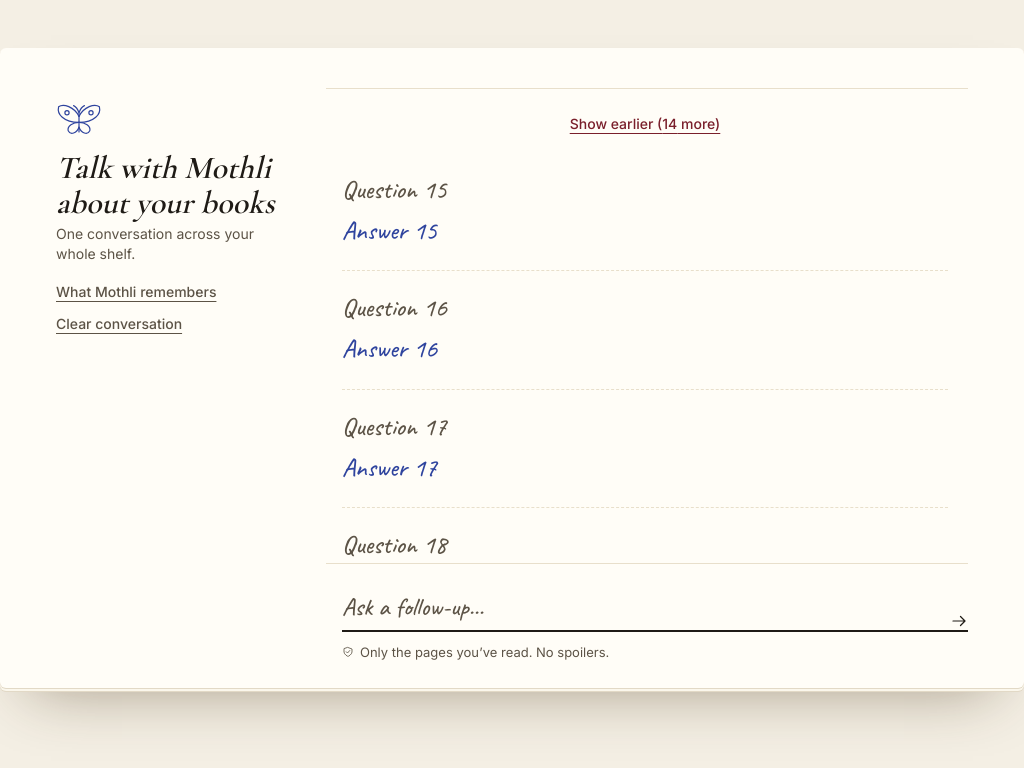
it: HomeChat › a long conversation shows the latest exchanges and lets the reader reach earlier ones
Check: the list item "Question 15 Answer 15" is shown, box [341,172,446,247]
Click the button "Show earlier (14 more)": (645, 123) [566,101,724,145]
(page scrolled)
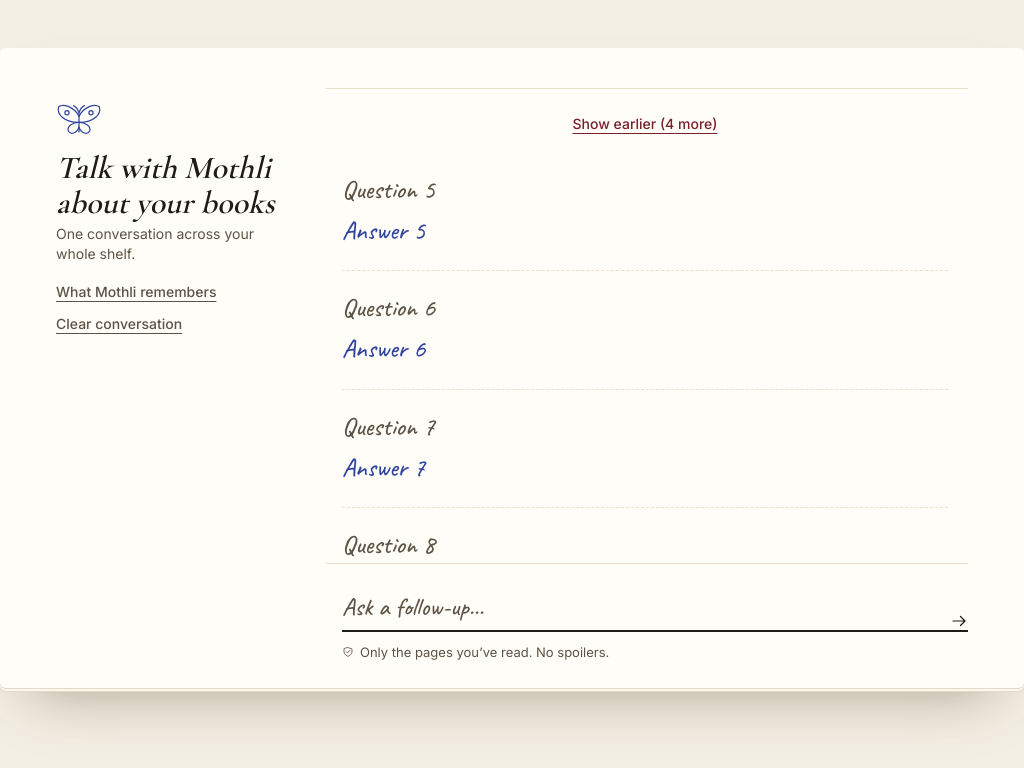
Click the button "Show earlier (4 more)": (645, 123) [568,101,721,145]
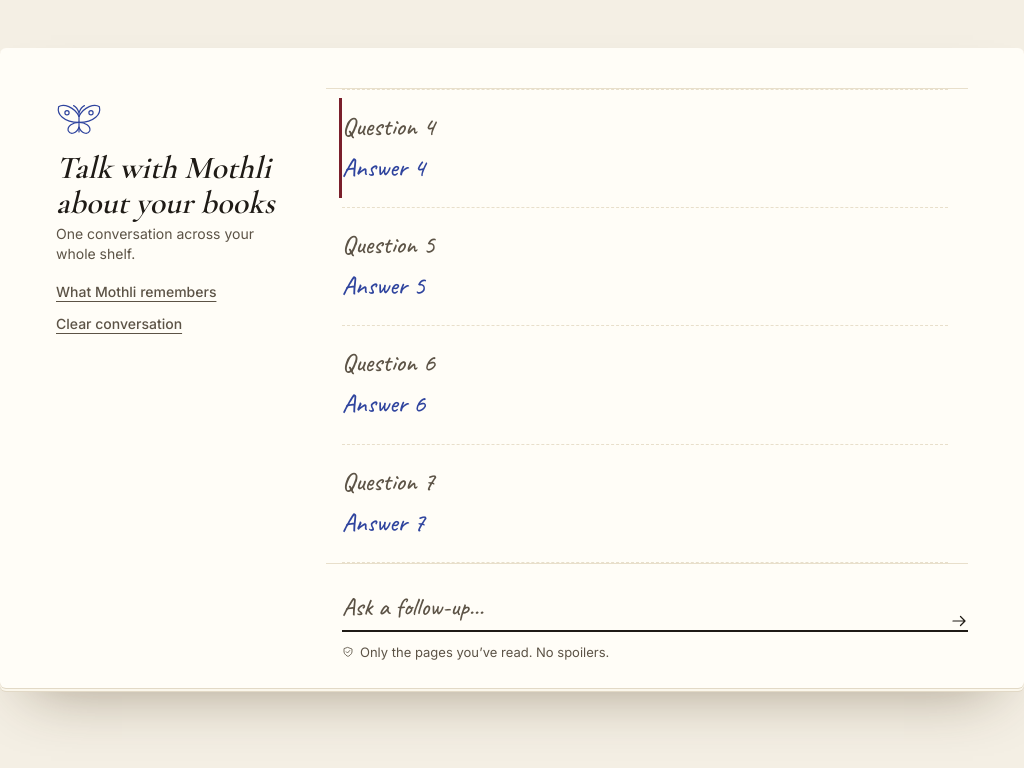
Check: the button "Show earlier" is gone
